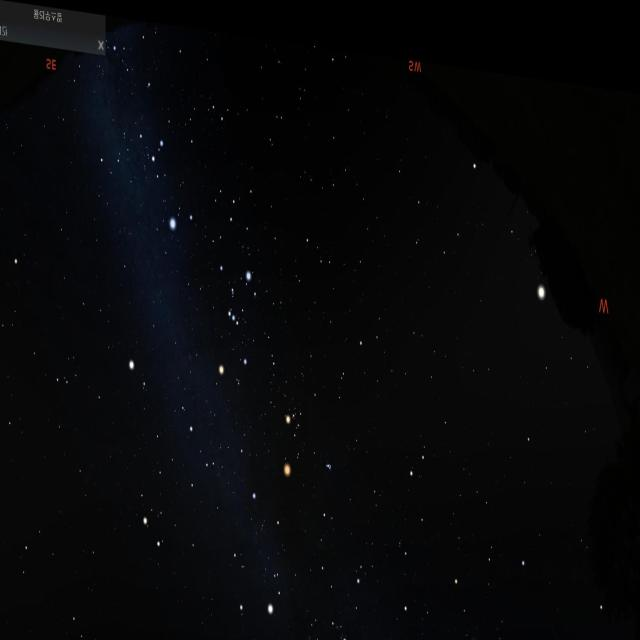canis_major: (138, 125, 192, 236)
canis_minor: (122, 340, 146, 395)
gemini: (137, 406, 224, 562)
orion: (206, 248, 263, 384)
pleiades: (324, 448, 335, 459)
taurus: (282, 363, 348, 469)
